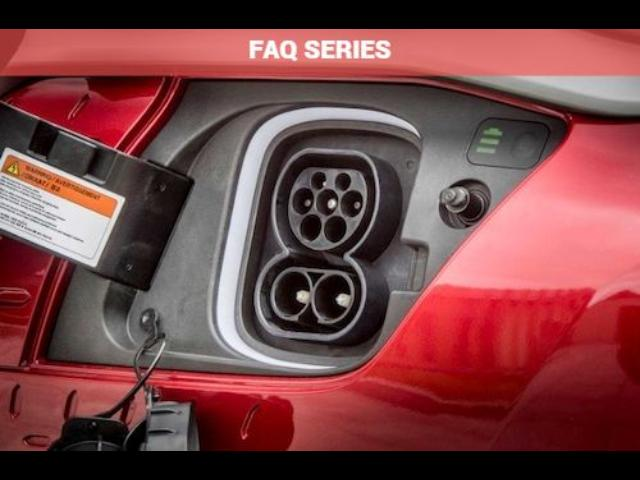inlet: (288, 167, 368, 251)
inlet-above-left: (312, 171, 326, 190)
inlet-above-right: (335, 173, 352, 191)
inlet-below-left: (301, 215, 321, 242)
inlet-below-right: (324, 217, 347, 243)
inlet-circle: (316, 189, 339, 215)
inlet-circle-left: (293, 188, 314, 214)
inlet-circle-right: (340, 190, 363, 217)
inlet-minus: (314, 274, 351, 320)
inlet-plus: (274, 271, 310, 317)
